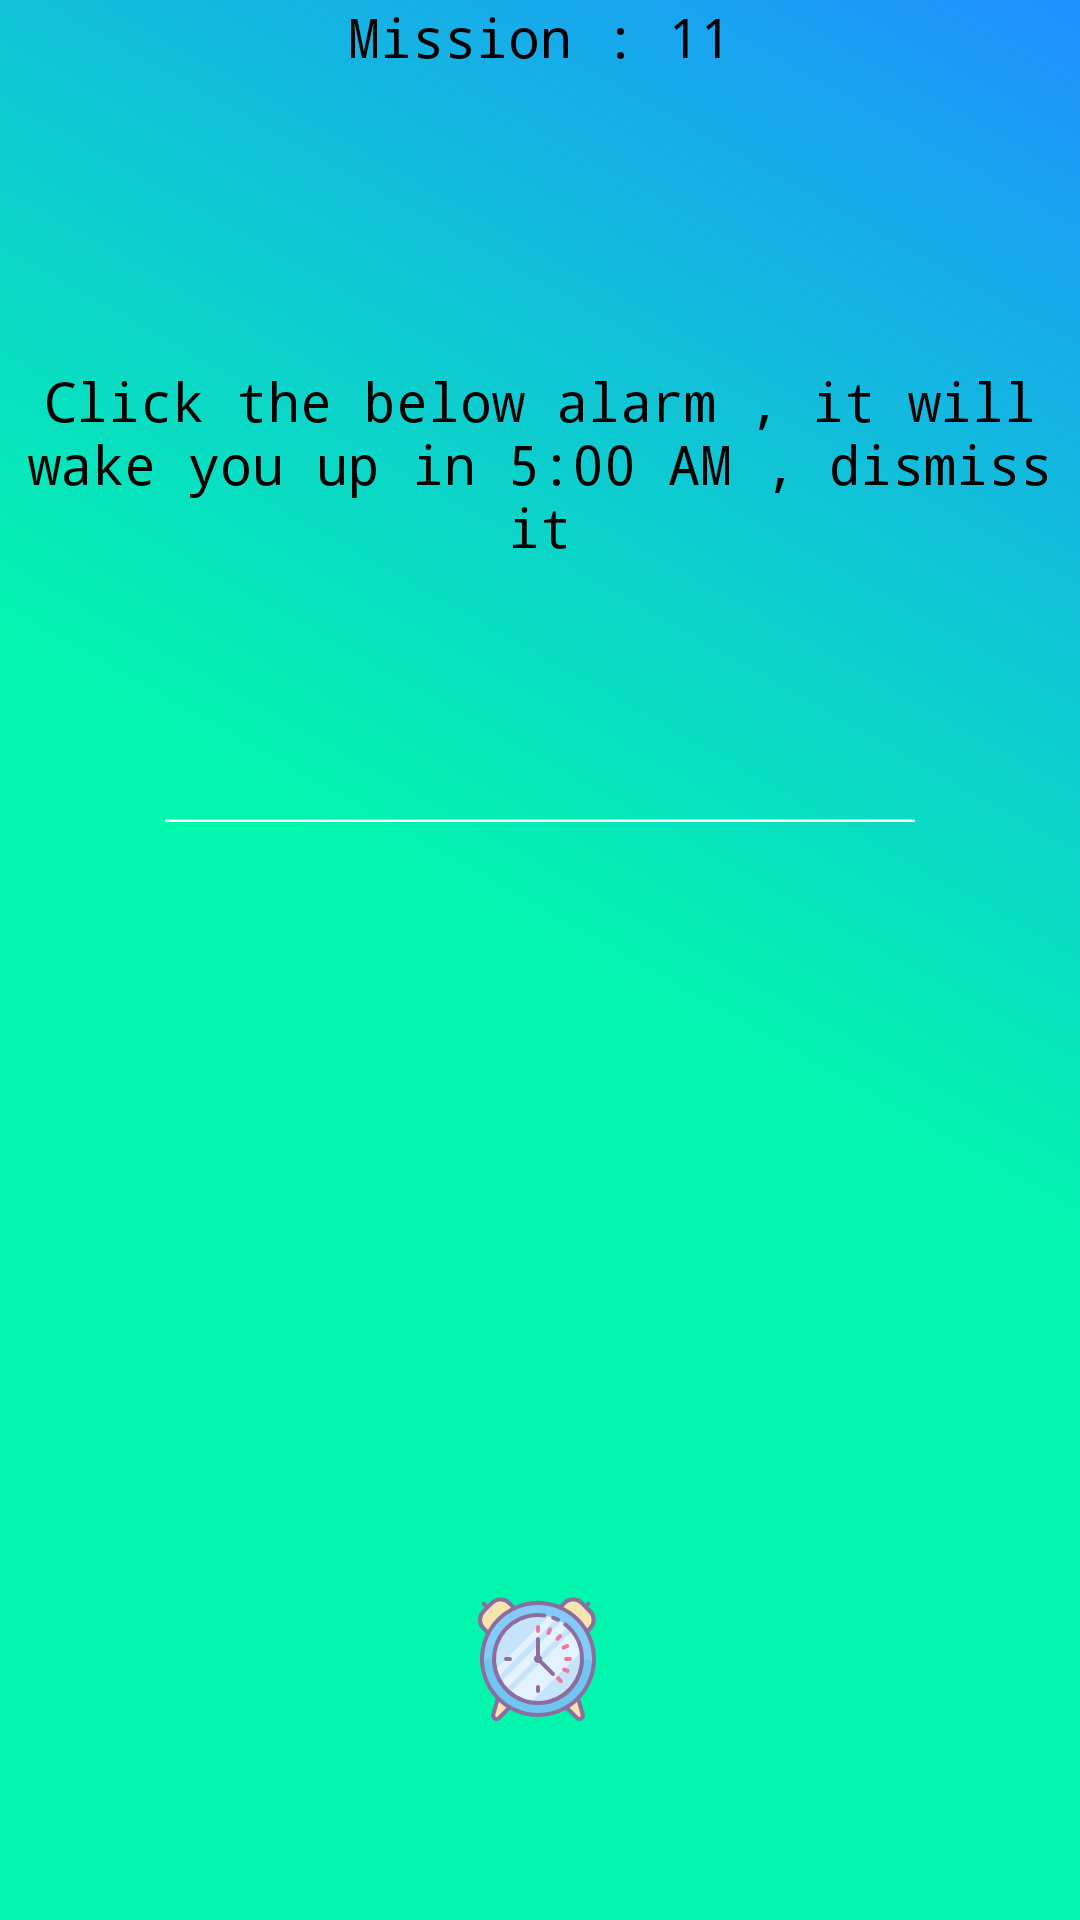

Where icons sit on this 1080w x 1920h app screen, as (x1, y1, x2, y2):
alarm: (478, 1597, 596, 1721)
